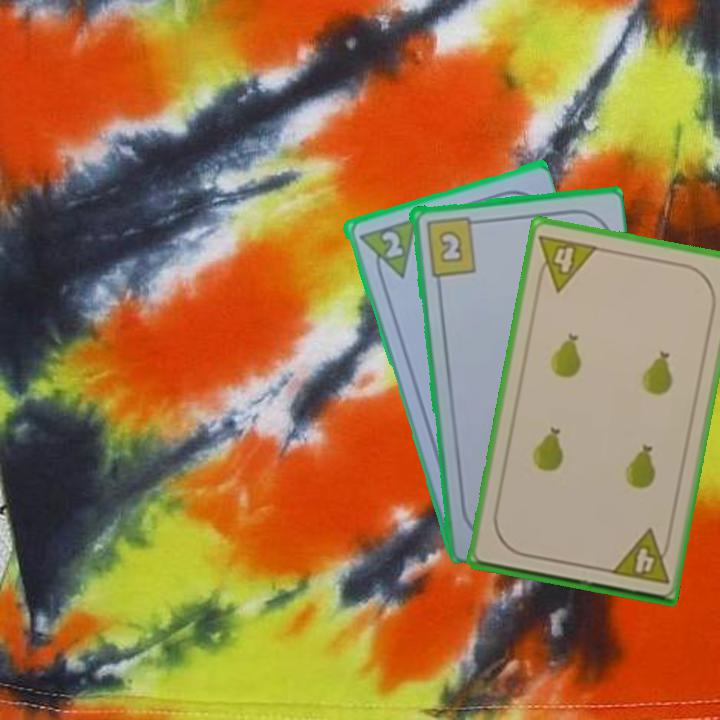2b: (422, 213, 483, 279)
2p: (377, 227, 406, 261)
4p: (532, 230, 601, 295), (607, 526, 674, 587)
